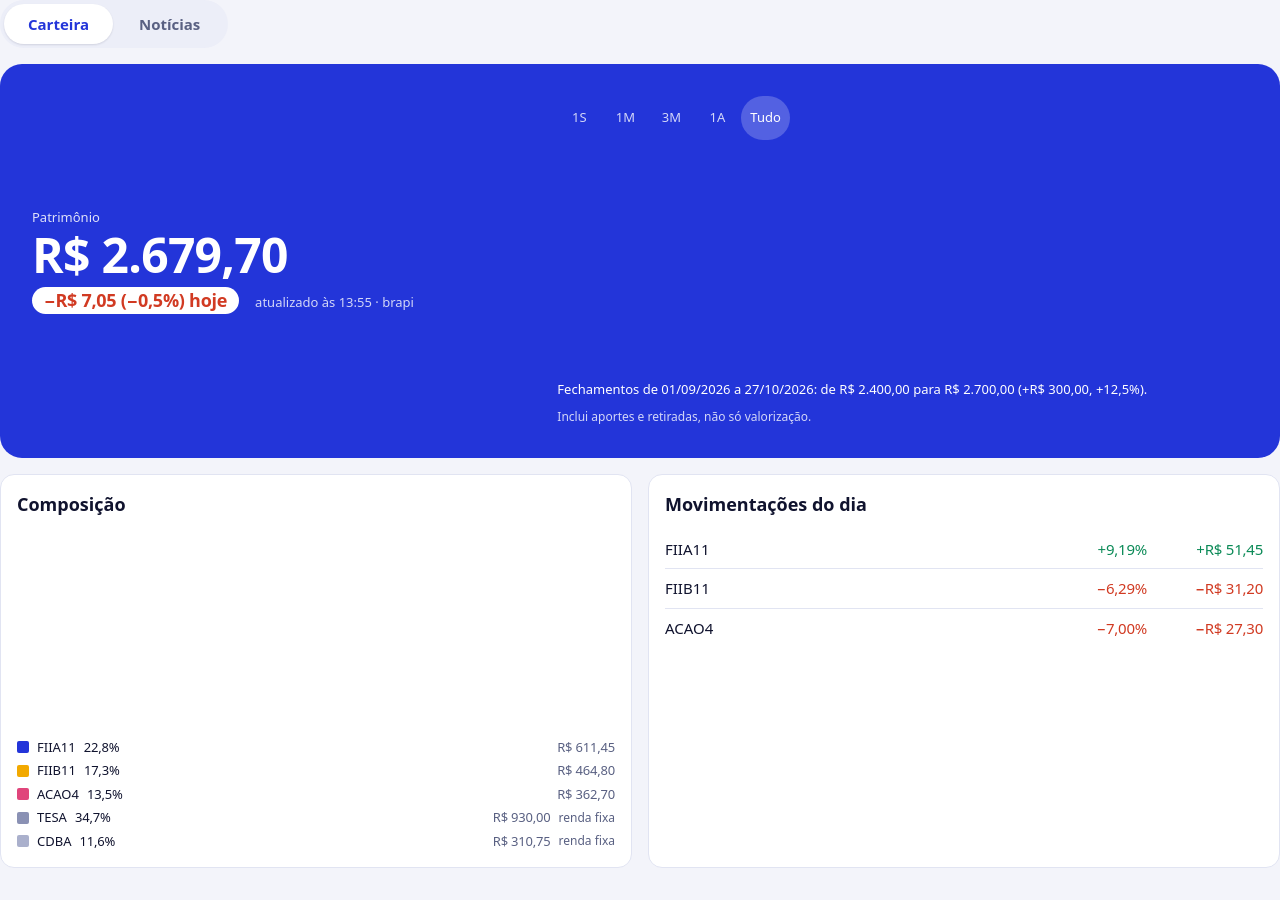
Início: abas › Notícias mostra as notícias e o briefing vindos dos dados, e o aviso de leitura
This screenshot has width=1280, height=900.
Step 1. Click the tab "Notícias" → (170,24), box [115,4,224,44]
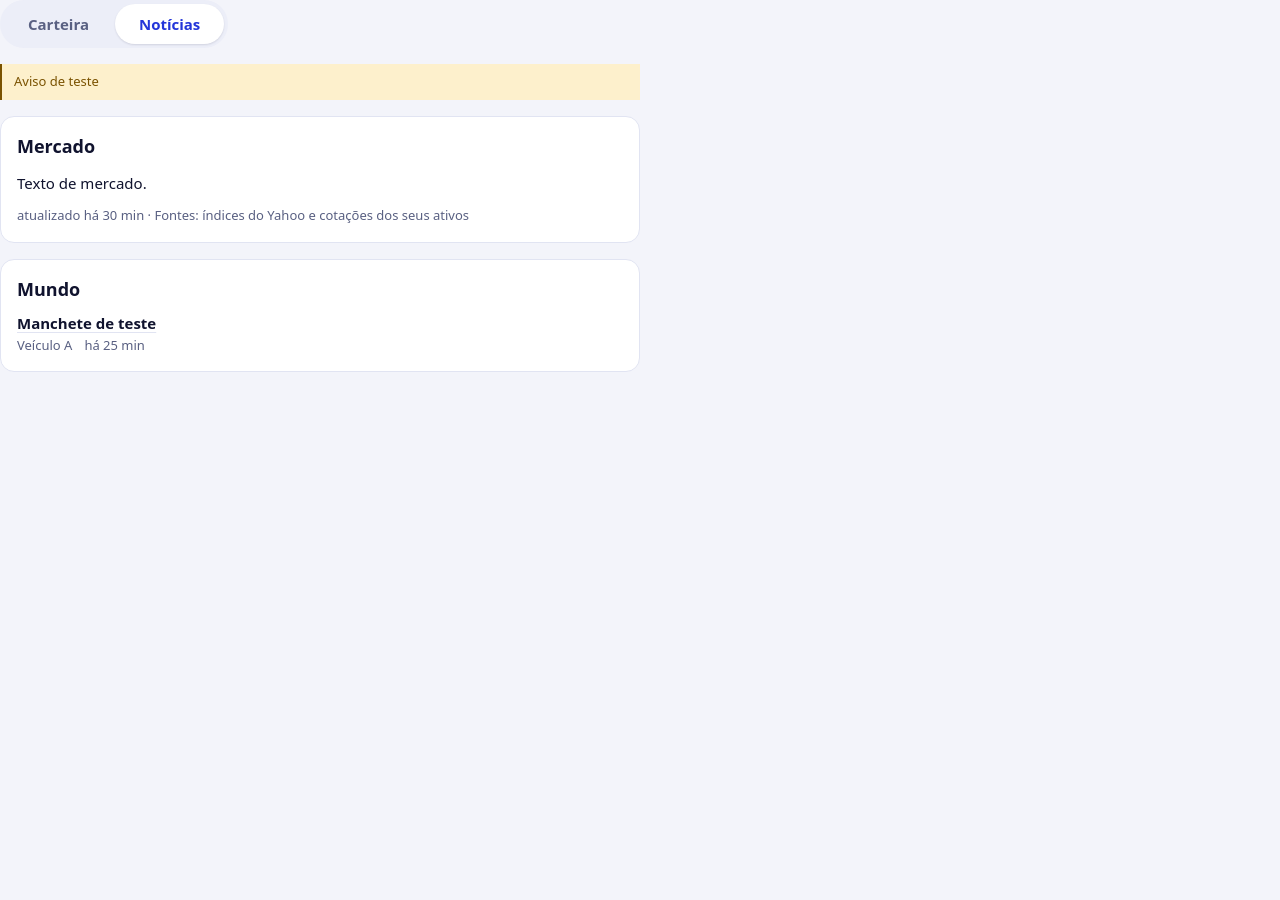
Result: the link "Manchete de teste" is shown at [17,312,156,332]
Result: the text "Texto de mercado." is shown at [17,172,147,192]
Result: the text "Aviso de teste" is shown at [0,64,640,100]
